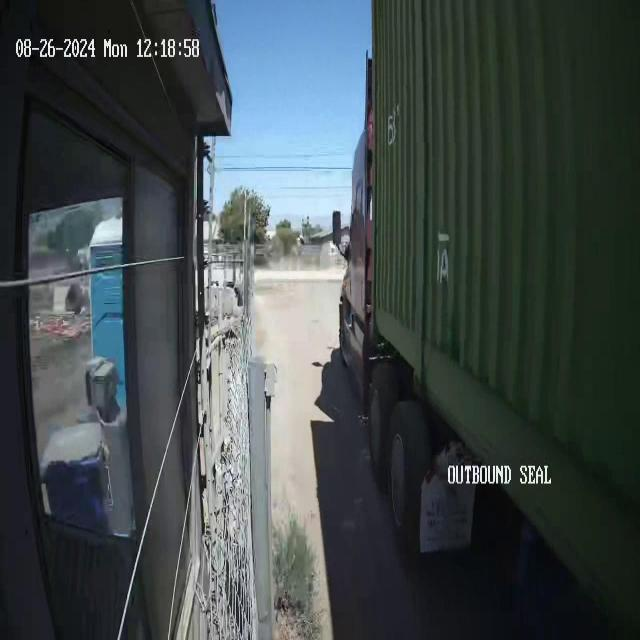TRUCK_OUT: (337, 2, 639, 634)
